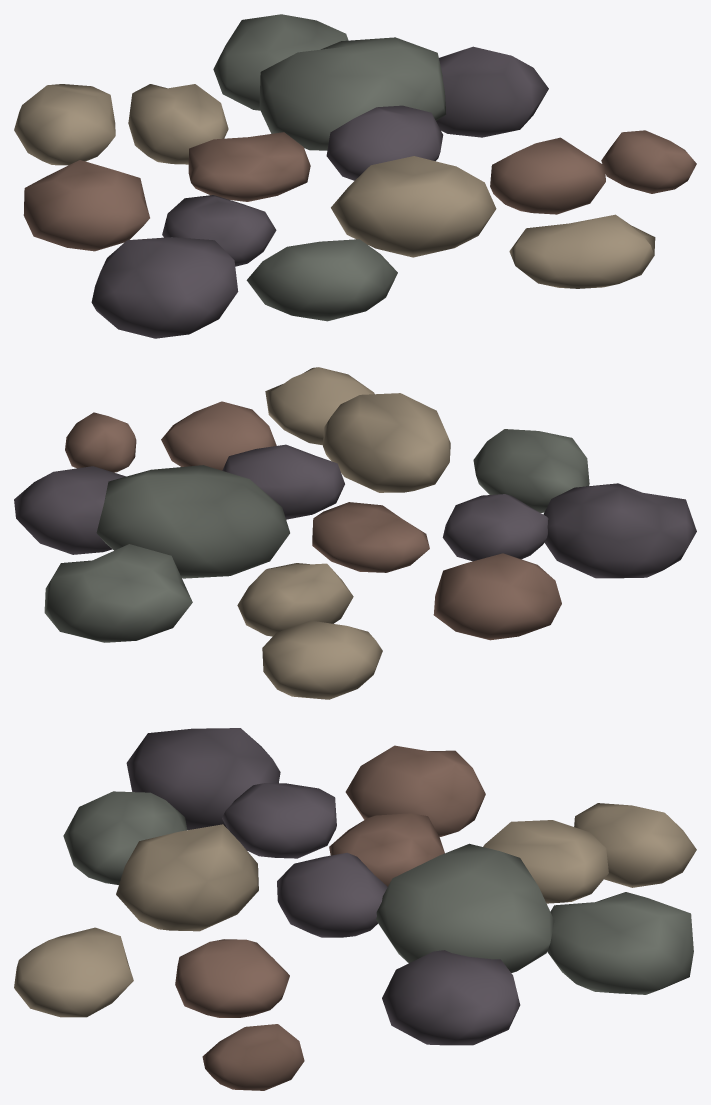
The model's file is river_stone.glb.
The picture shows the model from 3 angles, top to bottom: view 1: azimuth 30°, elevation 25°; view 2: azimuth 150°, elevation 25°; view 3: azimuth 270°, elevation 25°; orthographic projection. The views are drawn at different scales.
Visible parts, largest first — view 1: river_stone; view 2: river_stone; view 3: river_stone.
Part boxes in pixels (left/top/right/bottom): river_stone: left=14, top=14, right=696, bottom=338; river_stone: left=14, top=367, right=696, bottom=699; river_stone: left=14, top=728, right=696, bottom=1090.
Bounding box in the file's own units: 0.1881 × 0.0321 × 0.1714.
